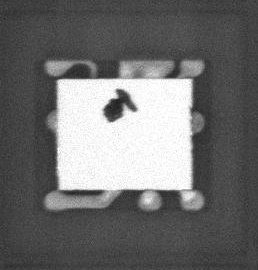DIE_INK: (100, 86, 139, 122)
